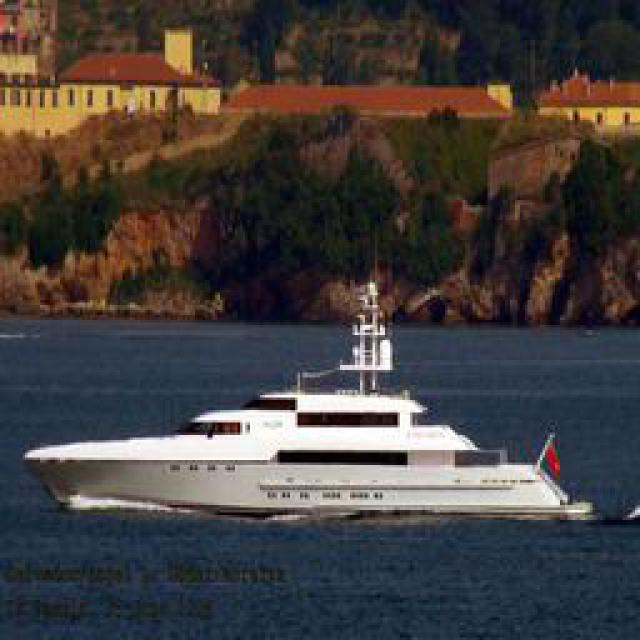Ship: (21, 371, 591, 521)
